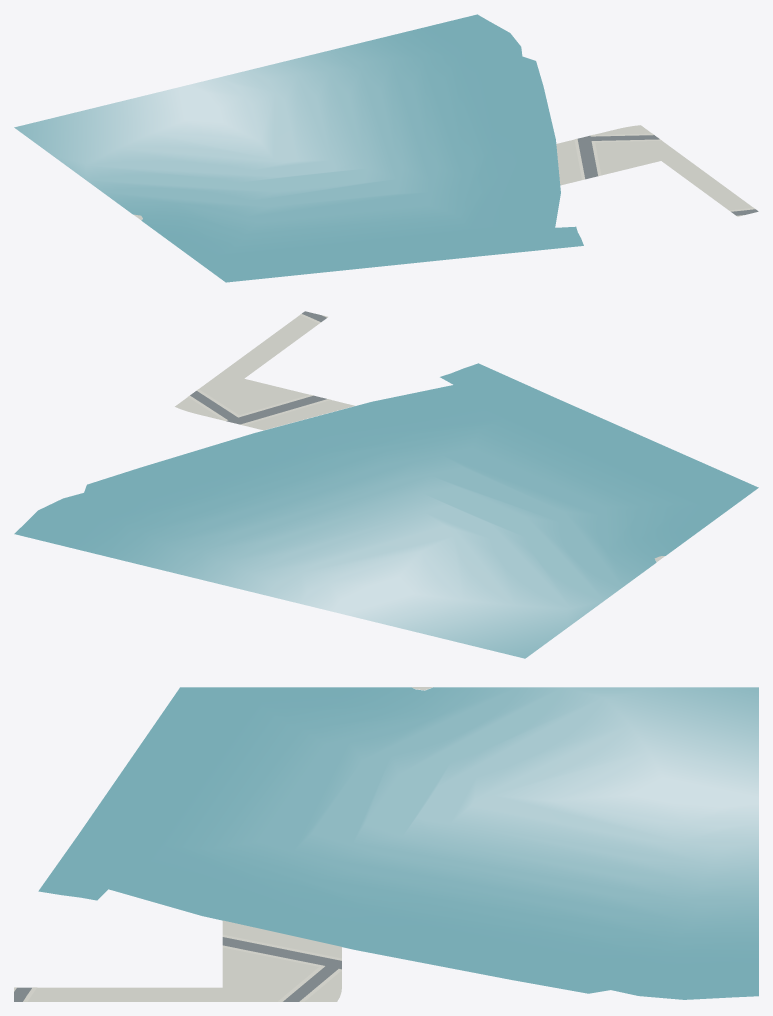
The picture shows the model from 3 angles, top to bottom: view 1: azimuth 30°, elevation 25°; view 2: azimuth 150°, elevation 25°; view 3: azimuth 270°, elevation 25°; orthographic projection. The views are drawn at different scales.
Parts seen in each view (by area): view 1: city; view 2: city; view 3: city.
Part boxes in pixels (x1=…): city: x1=14, y1=14, x2=758, y2=282; city: x1=14, y1=311, x2=758, y2=658; city: x1=14, y1=687, x2=758, y2=1001.
Size of the model in its own units: 500 by 0.4 by 500.
